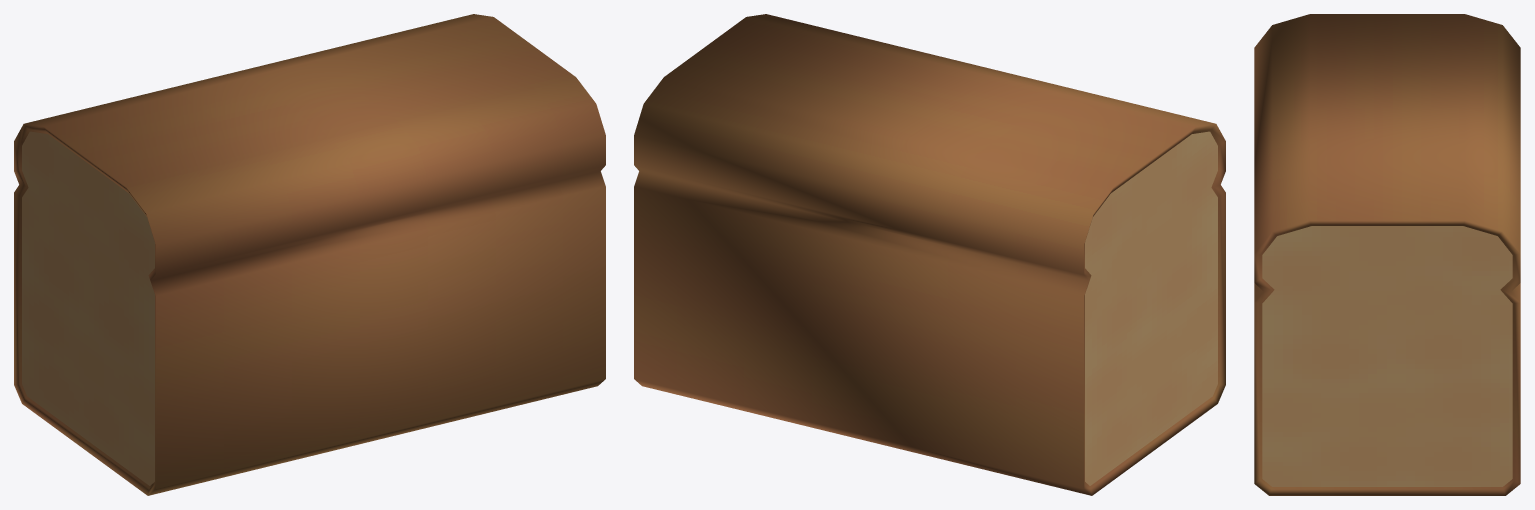
Rendered from bread.glb.
3 views of the same model, side by side, from view 1: azimuth 30°, elevation 25°; view 2: azimuth 150°, elevation 25°; view 3: azimuth 270°, elevation 25° (orthographic). The views are drawn at different scales.
Visible parts, largest first — view 1: Cube; view 2: Cube; view 3: Cube.
Boxes of the visible parts, x1=… form: Cube: x1=14, y1=14, x2=605, y2=495; Cube: x1=634, y1=14, x2=1225, y2=495; Cube: x1=1254, y1=14, x2=1520, y2=495.
Bounding box in the file's own units: 0.22 × 0.1369 × 0.12.
Materials: 1 (1 with a texture image).
